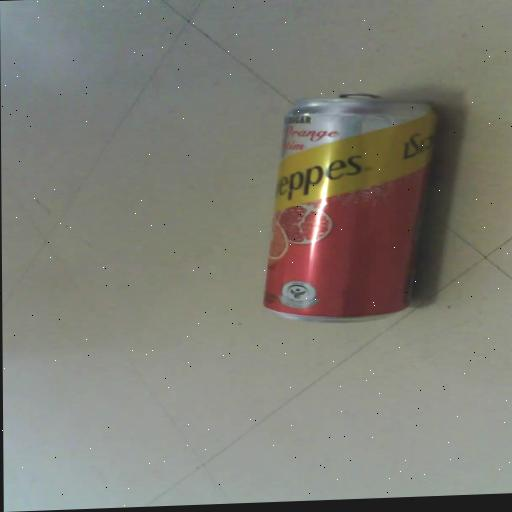canned: (248, 79, 456, 333)
